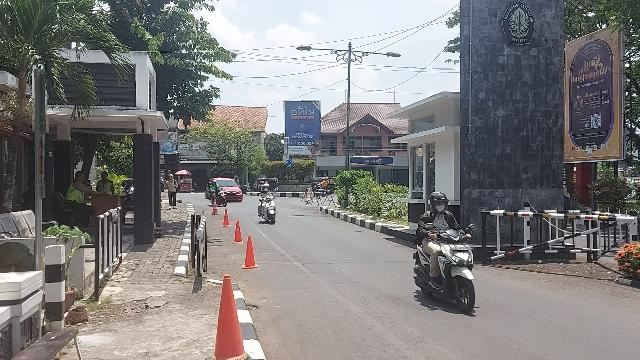helm: (430, 192, 450, 214), (262, 184, 270, 194)
motor: (411, 224, 481, 316), (259, 192, 279, 226)
